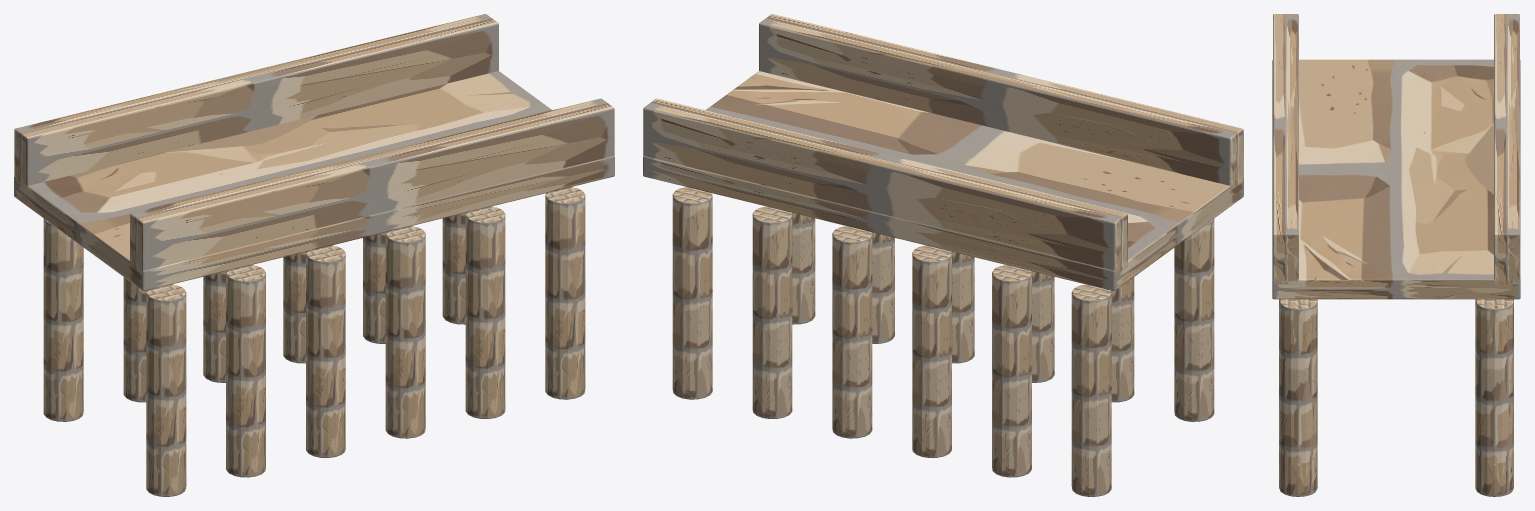
The model's file is market_colonnade_walkable_LOD1.glb.
The picture shows the model from 3 angles, left to right: view 1: azimuth 30°, elevation 25°; view 2: azimuth 150°, elevation 25°; view 3: azimuth 270°, elevation 25°; orthographic projection. The views are drawn at different scales.
Visible parts, largest first — view 1: LOD_Roof, LOD_Parapet, LOD_Parapet.001, LOD_Column.003, LOD_Column, LOD_Column.005, LOD_Column.004, LOD_Column.001, LOD_Column.002, LOD_Column.006, LOD_Column.007, LOD_Column.011 (+3 smaller); view 2: LOD_Roof, LOD_Parapet.001, LOD_Parapet, LOD_Column.009, LOD_Column.006, LOD_Column.011, LOD_Column.010, LOD_Column.007, LOD_Column.008, LOD_Column, LOD_Column.001, LOD_Column.005 (+3 smaller); view 3: LOD_Roof, LOD_Column.005, LOD_Column.011, LOD_Parapet, LOD_Parapet.001.
Boxes of the visible parts, left/top/right/bottom form: LOD_Roof: left=14, top=71, right=614, bottom=290; LOD_Parapet: left=130, top=98, right=614, bottom=274; LOD_Parapet.001: left=14, top=14, right=498, bottom=189; LOD_Column.003: left=385, top=226, right=425, bottom=438; LOD_Column: left=146, top=284, right=186, bottom=496; LOD_Column.005: left=545, top=187, right=585, bottom=399; LOD_Column.004: left=465, top=206, right=505, bottom=418; LOD_Column.001: left=226, top=265, right=265, bottom=477; LOD_Column.002: left=306, top=245, right=345, bottom=457; LOD_Column.006: left=43, top=218, right=83, bottom=421; LOD_Column.007: left=123, top=277, right=146, bottom=402; LOD_Column.011: left=442, top=212, right=465, bottom=324; LOD_Roof: left=643, top=71, right=1243, bottom=290; LOD_Parapet.001: left=643, top=98, right=1127, bottom=274; LOD_Parapet: left=759, top=14, right=1243, bottom=190; LOD_Column.009: left=832, top=226, right=872, bottom=438; LOD_Column.006: left=1071, top=284, right=1111, bottom=496; LOD_Column.011: left=672, top=187, right=712, bottom=399; LOD_Column.010: left=752, top=206, right=792, bottom=418; LOD_Column.007: left=992, top=265, right=1031, bottom=477; LOD_Column.008: left=912, top=245, right=951, bottom=457; LOD_Column: left=1174, top=218, right=1214, bottom=421; LOD_Column.001: left=1111, top=277, right=1134, bottom=402; LOD_Column.005: left=792, top=212, right=815, bottom=324; LOD_Roof: left=1272, top=59, right=1520, bottom=299; LOD_Column.005: left=1279, top=299, right=1317, bottom=496; LOD_Column.011: left=1475, top=299, right=1513, bottom=496; LOD_Parapet: left=1273, top=14, right=1298, bottom=284; LOD_Parapet.001: left=1494, top=14, right=1519, bottom=284.
Size of the model in its own units: 8.4 by 4.84 by 4.
Materials: 1 (1 with a texture image).
